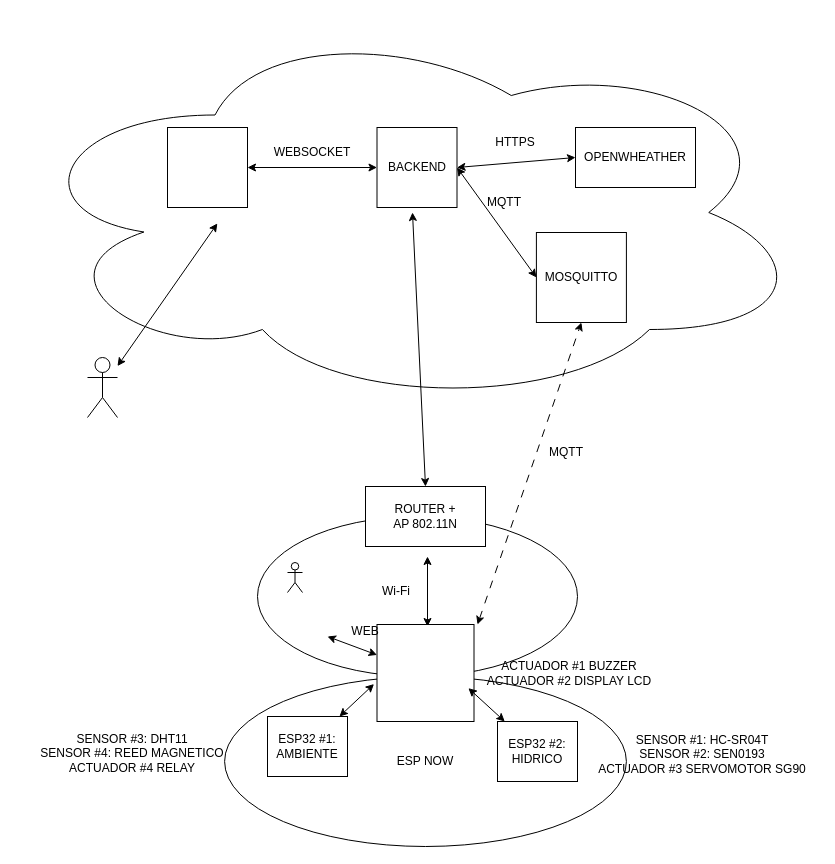
The diagram is 835 pixels wide and 864 high, and some of its shapes have lost their labels. The shapes that lost their labels are listed below. From the top down, each one's centre as x and y in pixels, then its label:
point (207, 167): DASHBOARD
point (102, 387): Modo ONLINE
point (294, 577): Modo OFFLINE
point (425, 673): ESP32 COORDINADOR (EDGE)
